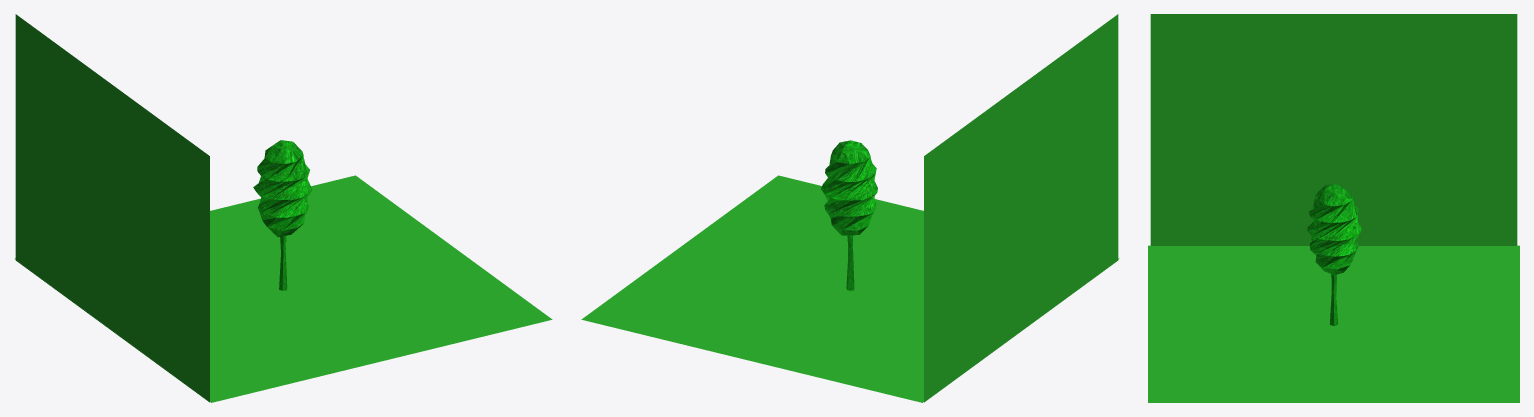
The model's file is treeModel2.obj.
3 renders of one model, left to right at view 1: azimuth 30°, elevation 25°; view 2: azimuth 150°, elevation 25°; view 3: azimuth 270°, elevation 25°, orthographic. The views are drawn at different scales.
Visible parts, largest first — view 1: Plane.001_Plane.002; view 2: Plane.001_Plane.002; view 3: Plane.001_Plane.002.
Part boxes in pixels (x1,y1,x2,y2): Plane.001_Plane.002: (14, 14, 552, 402); Plane.001_Plane.002: (581, 14, 1119, 402); Plane.001_Plane.002: (1148, 14, 1519, 402).
Size of the model in its own units: 4.97 by 3.43 by 4.97.
2 materials, 2 textured.
